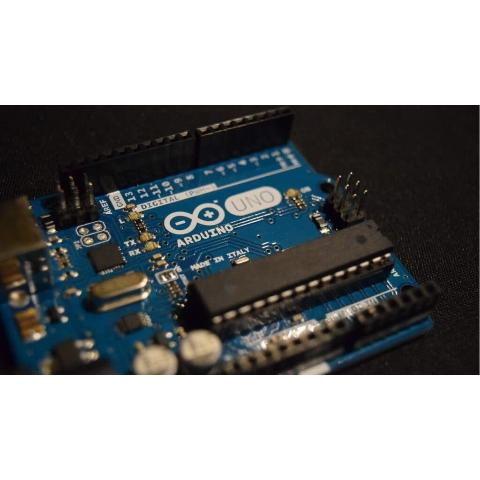Arduino-Uno: (0, 105, 444, 375)
